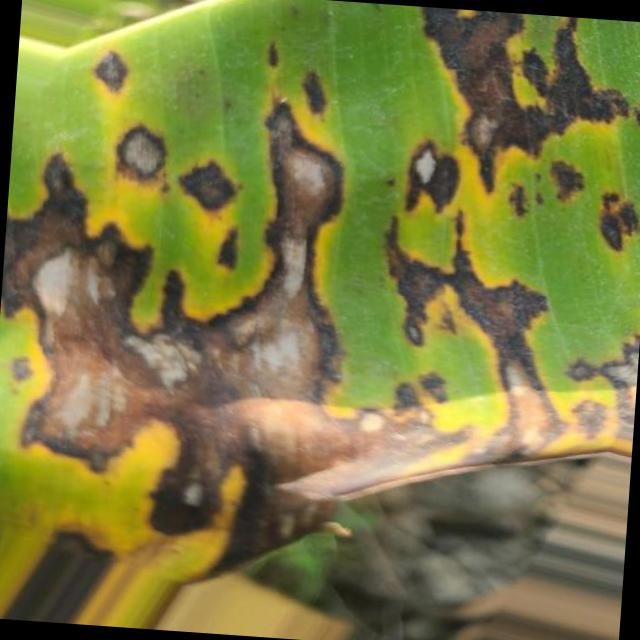Banana_Black_Sigatoka: (0, 22, 355, 594), (379, 6, 640, 483)
